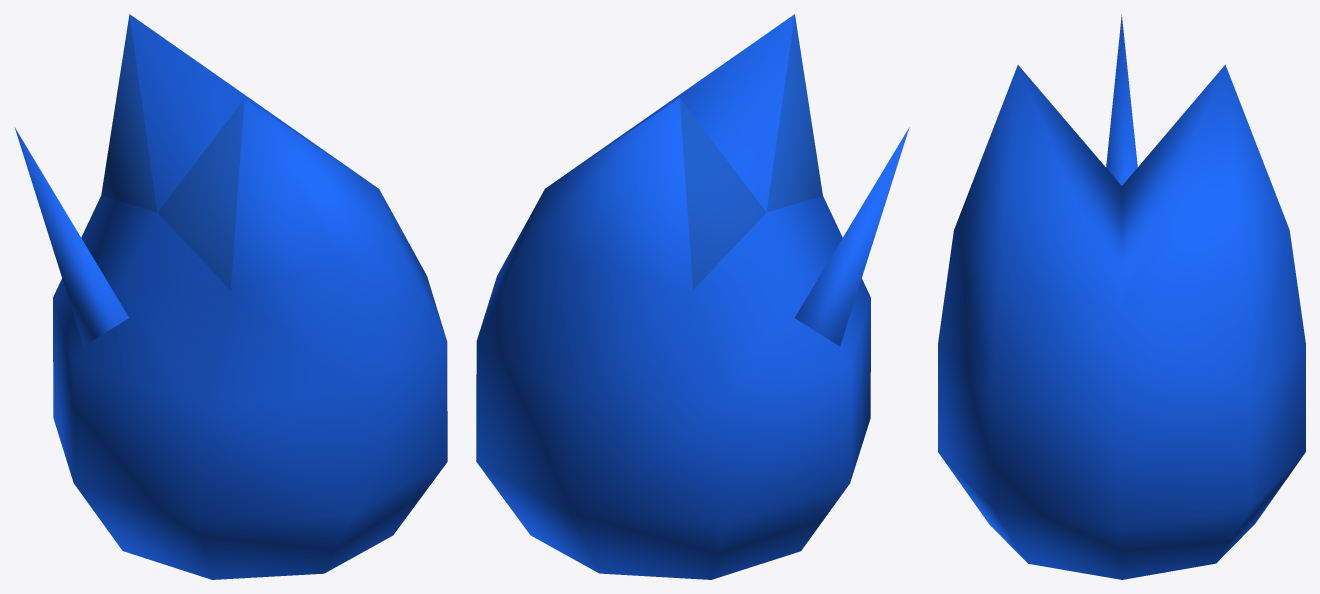
The model's file is Body.obj.
The picture shows the model from 3 angles, left to right: view 1: azimuth 30°, elevation 25°; view 2: azimuth 150°, elevation 25°; view 3: azimuth 270°, elevation 25°; orthographic projection. The views are drawn at different scales.
Bounding box in the file's own units: 3.26 × 4.02 × 2.79.
Materials: 3 (3 with a texture image).
